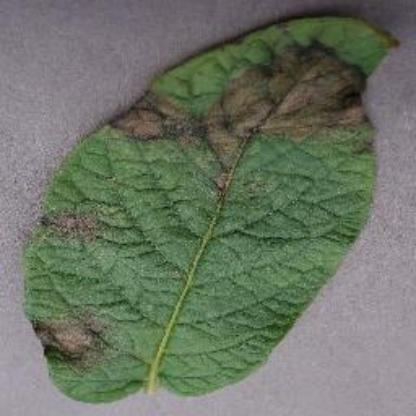Late-Blight: (18, 10, 406, 410)
